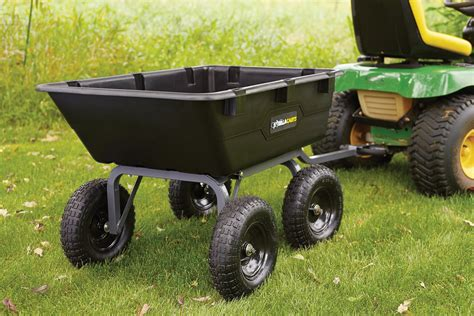Carts: (35, 60, 373, 300)
